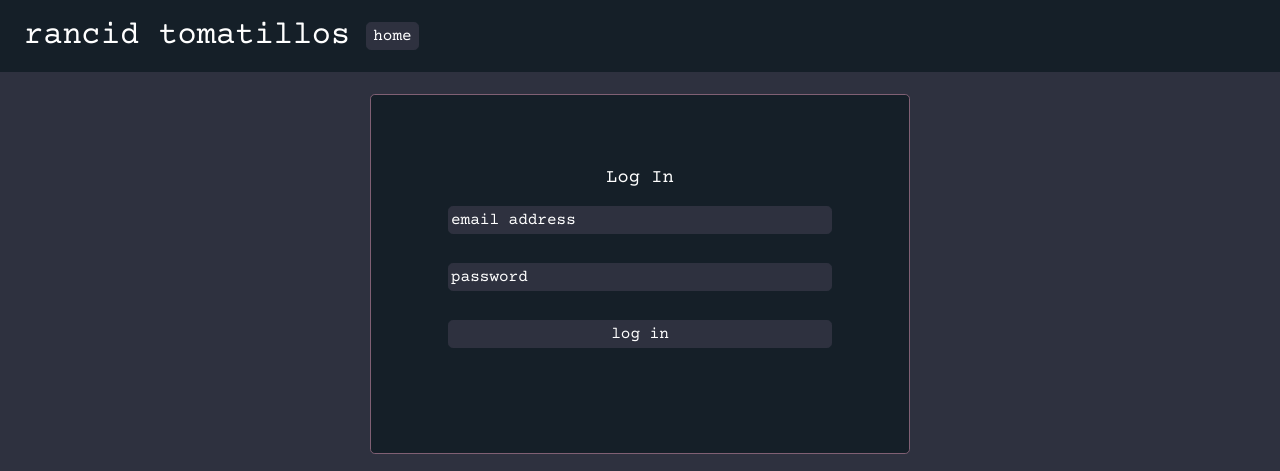
Test: Login Flow Test › should require both inputs to be filled for submission
This screenshot has width=1280, height=471.
Click the button with class "login-button" at (640,334), box [448,320,832,348]
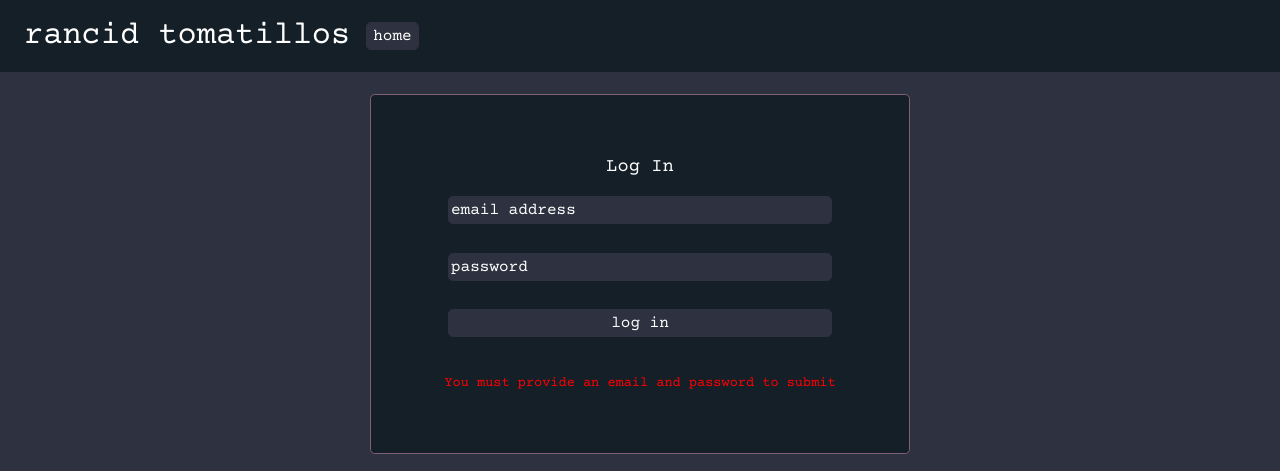
Expected: the text "You must provide an email and password to submit" is shown, [444,373,836,394]
